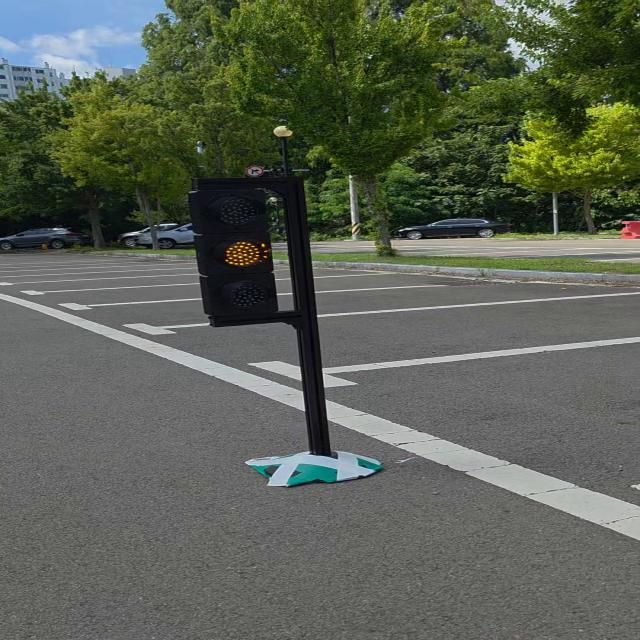yellow: (179, 174, 292, 328)
